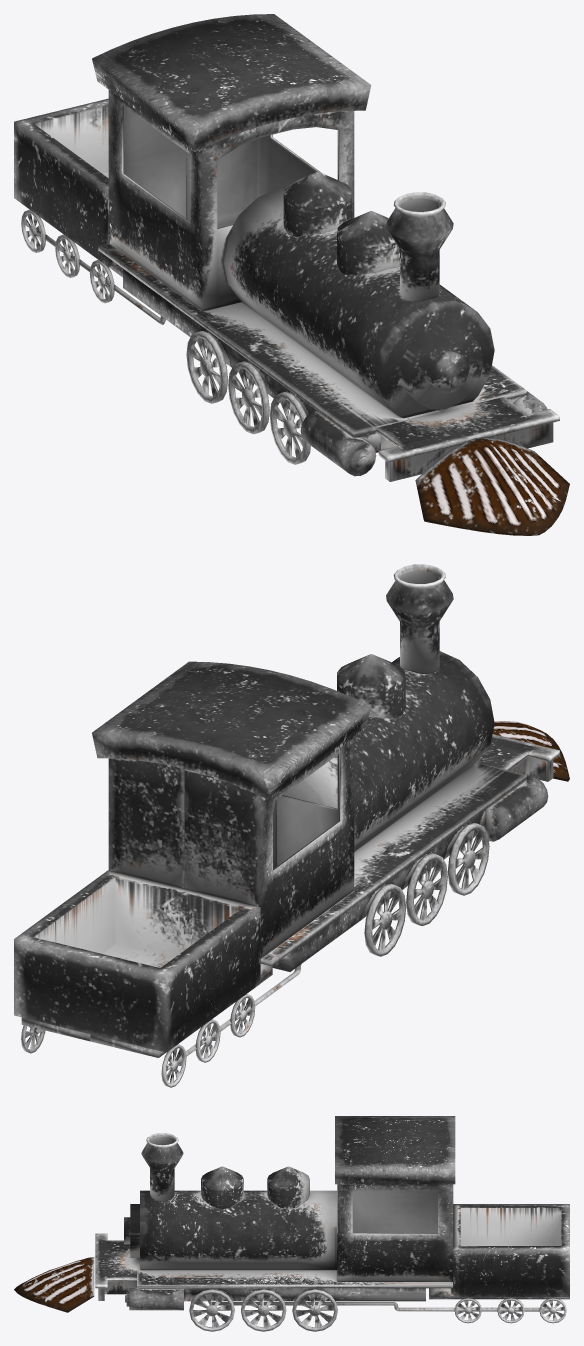
File: locomotive.fbx
The picture shows the model from 3 angles, top to bottom: view 1: azimuth 30°, elevation 25°; view 2: azimuth 150°, elevation 25°; view 3: azimuth 270°, elevation 25°; orthographic projection. The views are drawn at different scales.
Visible parts, largest first — view 1: Cylinder001, Box001, Box007, Box003, Box002, Line001, Box006, Cylinder010, Cylinder011, Cylinder012, Cylinder002, Box005 (+6 smaller); view 2: Box002, Box001, Box007, Cylinder001, Box003, Cylinder010, Cylinder012, Box005, Box006, Cylinder002, Cylinder005, Cylinder003 (+6 smaller); view 3: Cylinder001, Box001, Box002, Box007, Box003, Line001, Box005, Box006, Cylinder010, Cylinder011, Cylinder012, Cylinder002 (+8 smaller).
Part boxes in pixels (left/top/right/bottom): Cylinder001: left=222, top=188, right=494, bottom=418; Box001: left=108, top=90, right=354, bottom=311; Box007: left=92, top=14, right=371, bottom=152; Box003: left=98, top=243, right=526, bottom=436; Box002: left=14, top=98, right=117, bottom=266; Line001: left=415, top=437, right=569, bottom=535; Box006: left=376, top=397, right=559, bottom=481; Cylinder010: left=386, top=192, right=453, bottom=301; Cylinder011: left=283, top=172, right=351, bottom=236; Cylinder012: left=337, top=211, right=399, bottom=275; Cylinder002: left=300, top=391, right=547, bottom=476; Box005: left=123, top=268, right=521, bottom=452; Box002: left=14, top=870, right=260, bottom=1052; Box001: left=108, top=737, right=354, bottom=958; Box007: left=92, top=661, right=371, bottom=799; Cylinder001: left=283, top=651, right=494, bottom=851; Box003: left=260, top=762, right=526, bottom=966; Cylinder010: left=386, top=564, right=453, bottom=673; Cylinder012: left=337, top=654, right=405, bottom=719; Box005: left=272, top=809, right=485, bottom=971; Box006: left=476, top=734, right=559, bottom=781; Cylinder002: left=485, top=775, right=548, bottom=841; Cylinder005: left=447, top=822, right=489, bottom=895; Cylinder003: left=364, top=883, right=406, bottom=956; Cylinder001: left=124, top=1190, right=336, bottom=1269; Box001: left=337, top=1184, right=453, bottom=1281; Box002: left=453, top=1204, right=569, bottom=1297; Box007: left=335, top=1116, right=455, bottom=1184; Box003: left=137, top=1233, right=452, bottom=1288; Line001: left=14, top=1257, right=94, bottom=1312; Box005: left=184, top=1288, right=425, bottom=1301; Box006: left=95, top=1233, right=136, bottom=1300; Cylinder010: left=141, top=1133, right=183, bottom=1201; Cylinder011: left=267, top=1166, right=309, bottom=1209; Cylinder012: left=201, top=1166, right=243, bottom=1209; Cylinder002: left=125, top=1288, right=183, bottom=1310.
Bounding box in the file's own units: 67.86 × 86.32 × 260.
